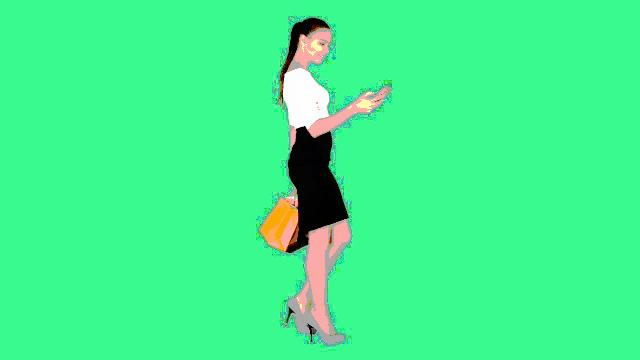berjalan: (258, 11, 372, 345)
